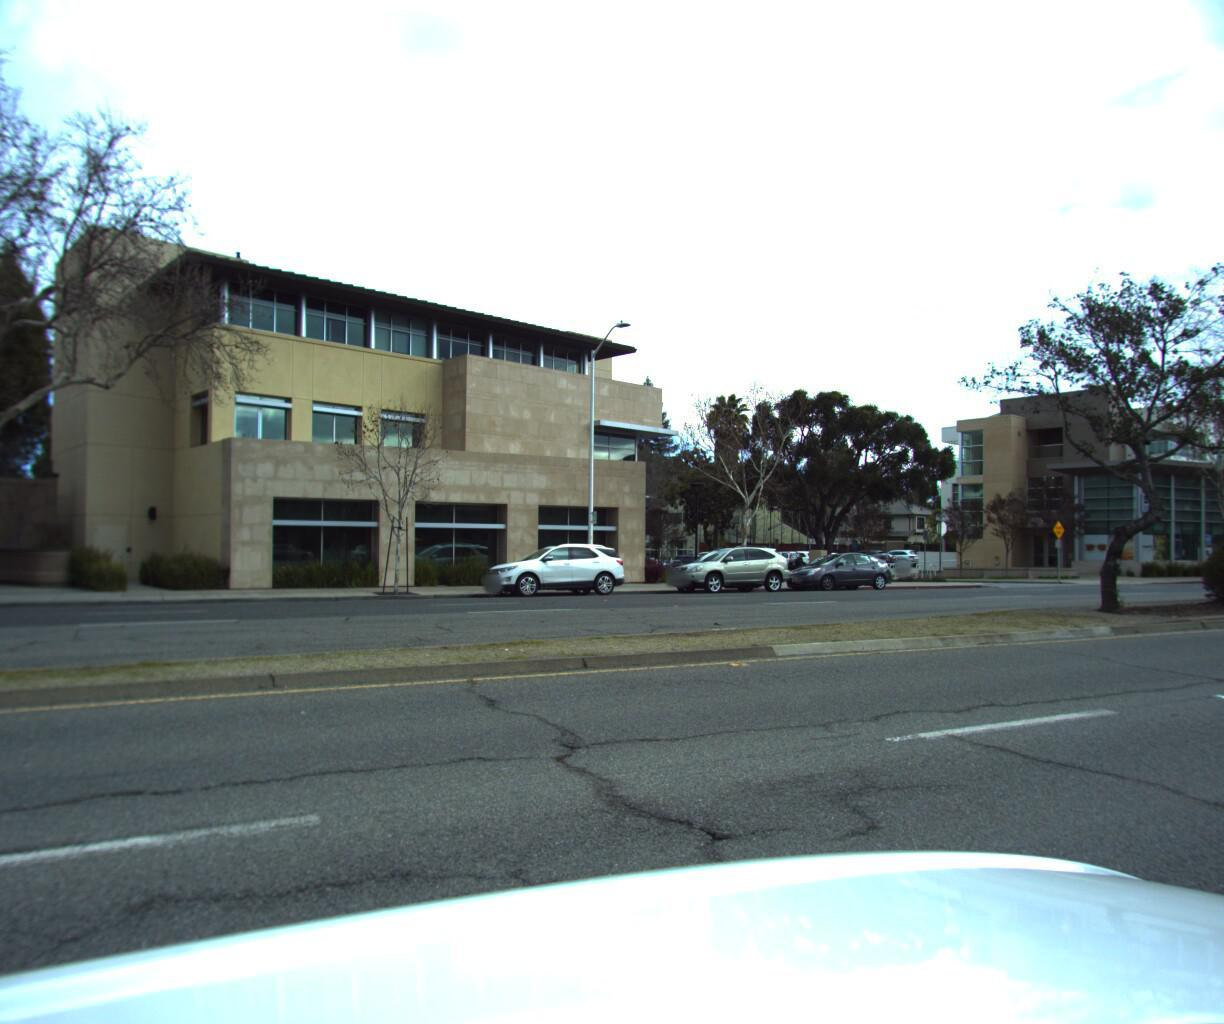car: (474, 539, 631, 601), (659, 541, 794, 594), (776, 548, 894, 592)
